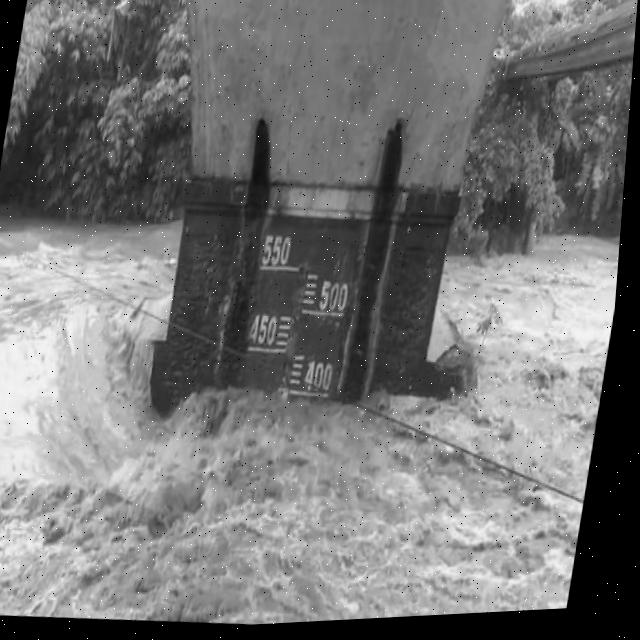water-meter: (220, 195, 375, 433)
